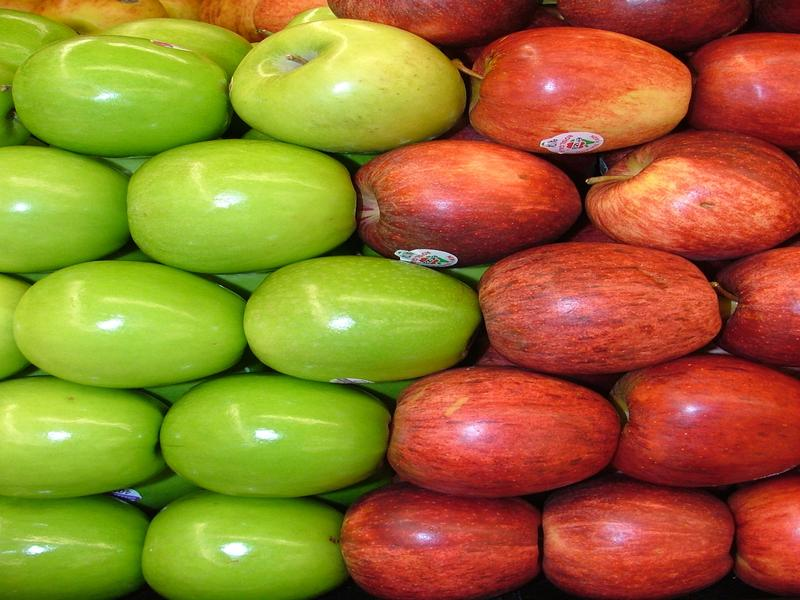apple: (229, 235, 490, 386), (474, 232, 739, 377), (125, 137, 377, 277), (379, 365, 630, 496), (226, 14, 473, 147), (349, 126, 584, 258), (469, 25, 694, 151), (17, 264, 241, 381)
